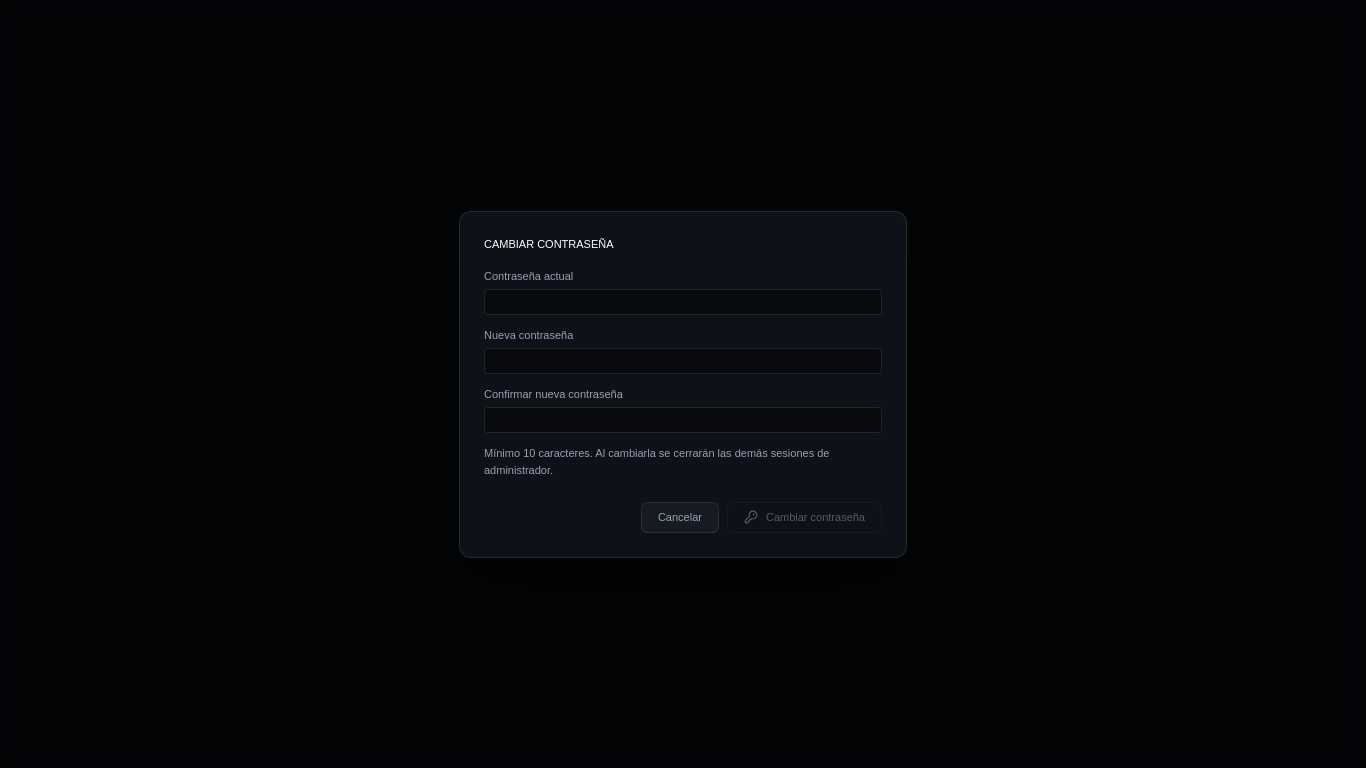
Test: AdminPasswordChangeDialog › maps the PASSWORD_POLICY_REJECTED failure to a clear message
This screenshot has width=1366, height=768.
Type "correct horse battery staple" into the password field labelled "Contraseña actual".
click(683, 302); type("correct horse battery staple")  # box x1=484 y1=288 x2=882 y2=315
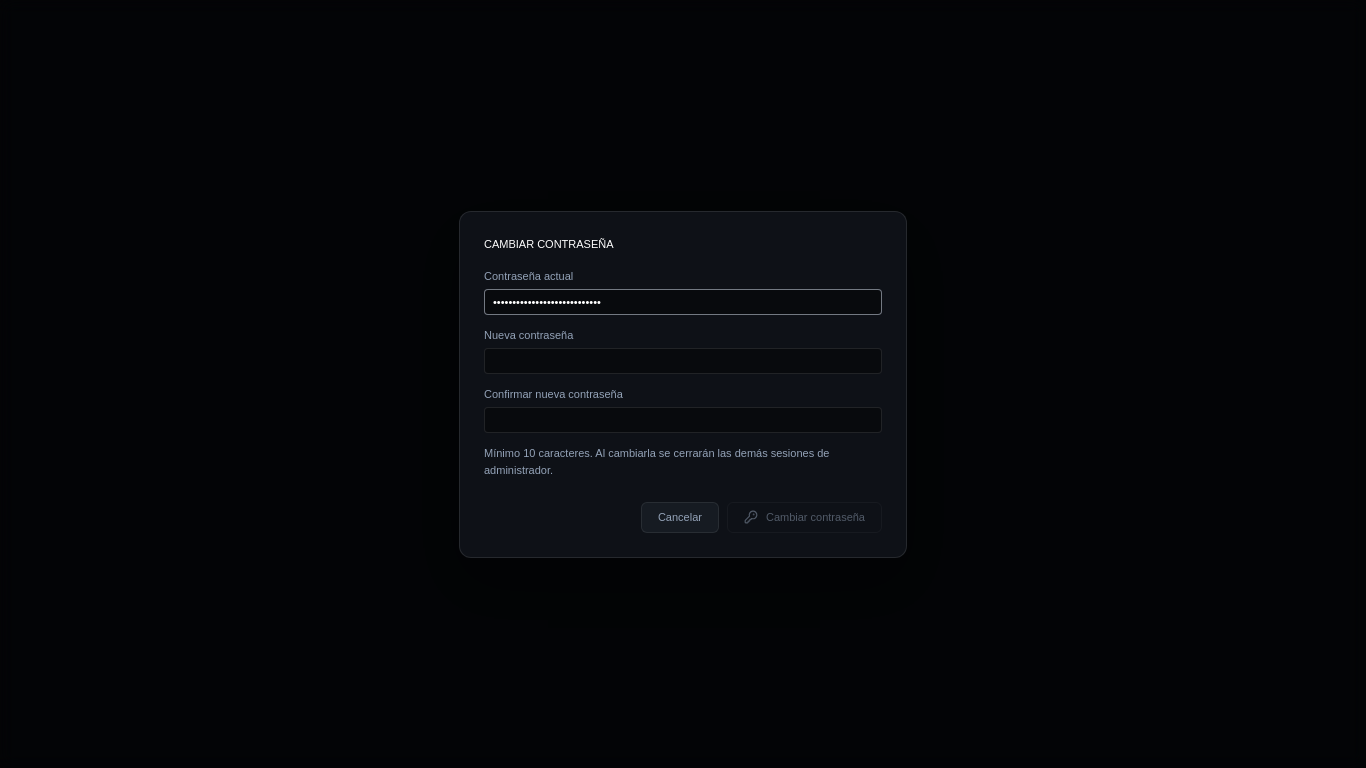
Type "a different durable passphrase" into the password field labelled "Nueva contraseña".
click(683, 361); type("a different durable passphrase")  # box x1=484 y1=348 x2=882 y2=374
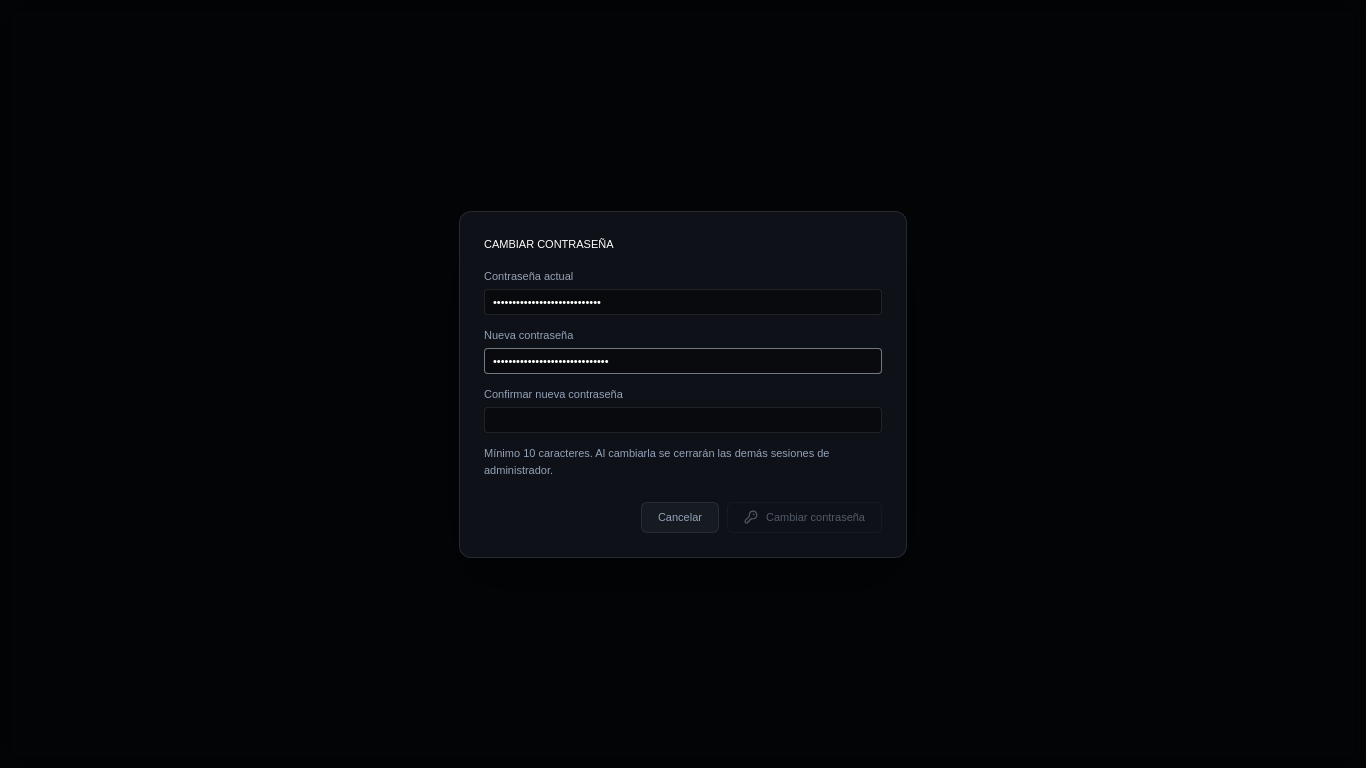
Type "a different durable passphrase" into the password field labelled "Confirmar nueva contraseña".
click(683, 420); type("a different durable passphrase")  # box x1=484 y1=406 x2=882 y2=433
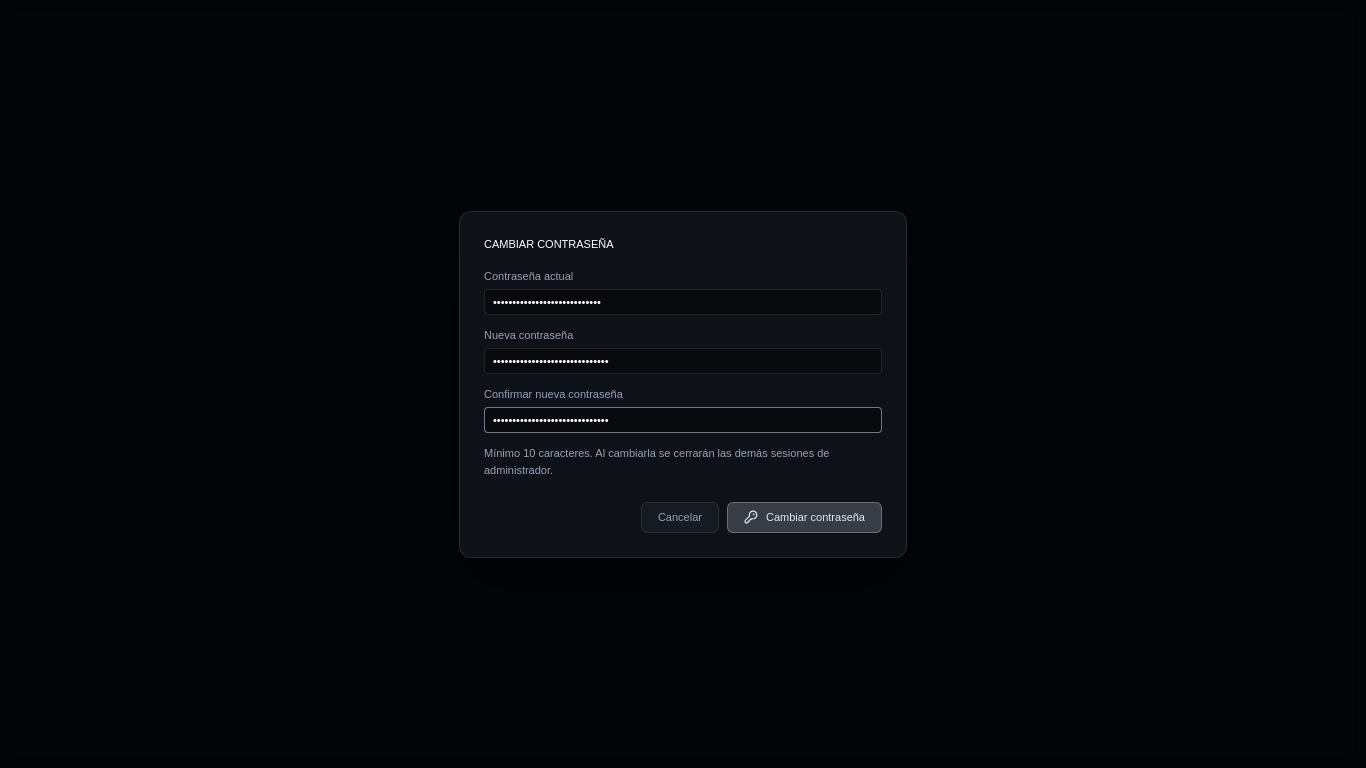
Click the button "Cambiar contraseña".
click(804, 517)  # box x1=727 y1=502 x2=882 y2=532
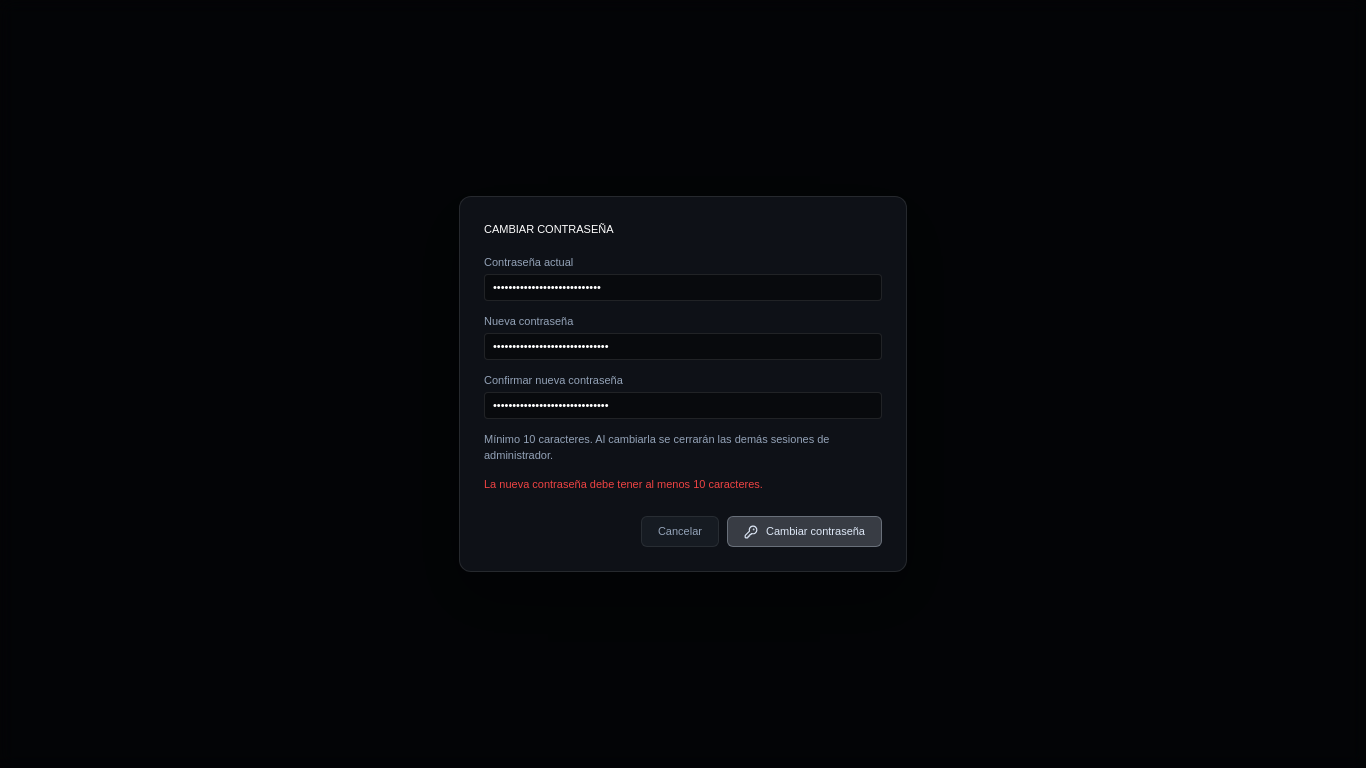
Result: the message reads "La nueva contraseña debe tener al menos 10 caracteres." at x1=484 y1=478 x2=763 y2=490
